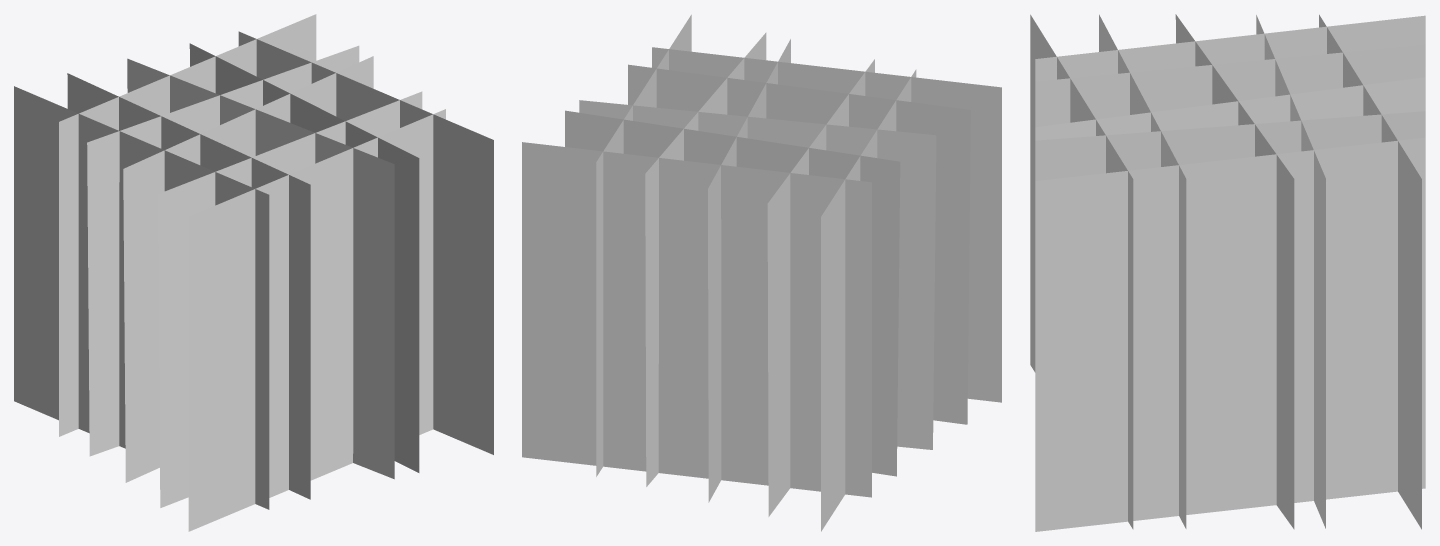
File: rain.dae
3 views of the same model, side by side, from view 1: azimuth 30°, elevation 25°; view 2: azimuth 150°, elevation 25°; view 3: azimuth 270°, elevation 25° (orthographic). The views are drawn at different scales.
Parts seen in each view (by area): view 1: SketchUp (×10); view 2: SketchUp (×10); view 3: SketchUp (×10).
Boxes of the visible parts, bbox=[...] form: SketchUp (×10): bbox=[14, 14, 493, 531]; SketchUp (×10): bbox=[522, 14, 1001, 531]; SketchUp (×10): bbox=[1030, 14, 1425, 531].
Bounding box in the file's own units: 80.18 × 80.18 × 78.48.
Materials: 2 (2 with a texture image).
